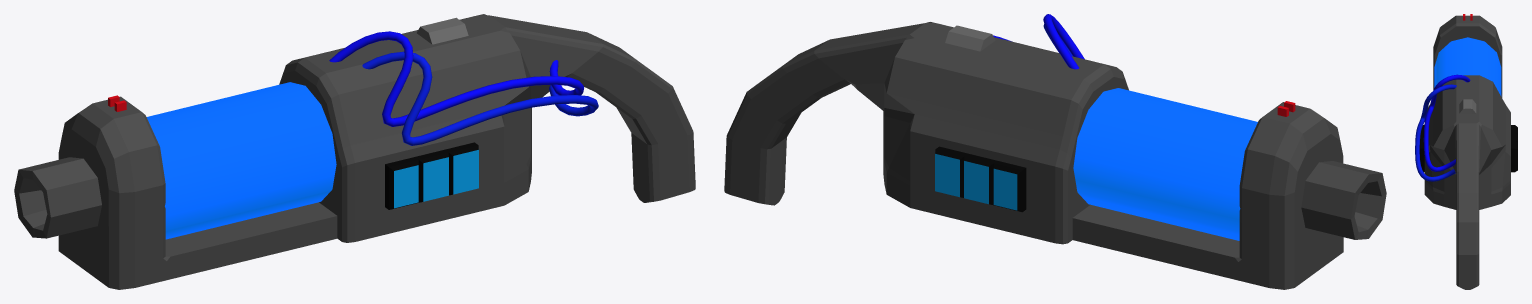
File: Freeze gun.fbx
3 views of the same model, side by side, from view 1: azimuth 30°, elevation 25°; view 2: azimuth 150°, elevation 25°; view 3: azimuth 270°, elevation 25° (orthographic). The views are drawn at different scales.
Visible parts, largest first — view 1: Cube, NurbsPath, BézierCurve, BézierCurve.001; view 2: Cube, NurbsPath, BézierCurve; view 3: Cube, NurbsPath, BézierCurve.001, BézierCurve.
Part boxes in pixels (box(x1,y1,x2,y2)): Cube: box(14, 14, 695, 289); NurbsPath: box(146, 82, 336, 239); BézierCurve: box(329, 31, 583, 126); BézierCurve.001: box(362, 51, 598, 145); Cube: box(724, 22, 1386, 289); NurbsPath: box(1073, 88, 1257, 240); BézierCurve: box(993, 14, 1084, 69); Cube: box(1419, 14, 1517, 289); NurbsPath: box(1434, 37, 1501, 96); BézierCurve.001: box(1415, 84, 1456, 181); BézierCurve: box(1423, 74, 1470, 171).
Bounding box in the file's own units: 685 × 245 × 171.
